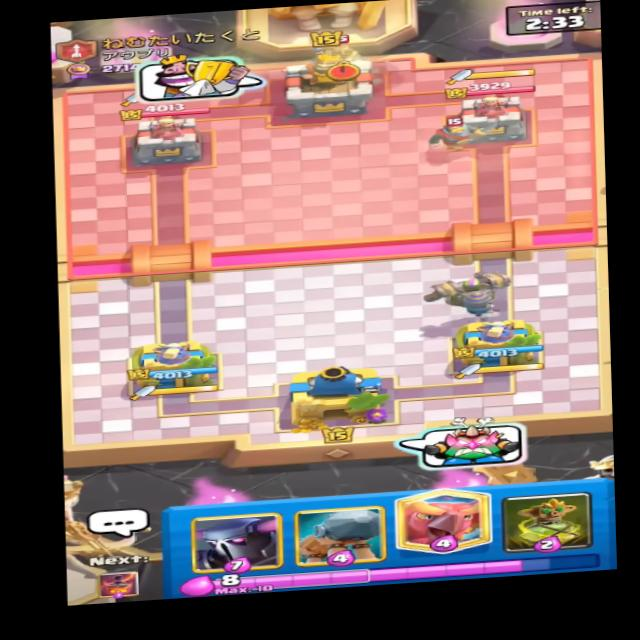knight: (425, 114, 485, 152)
prince: (311, 33, 363, 73)
